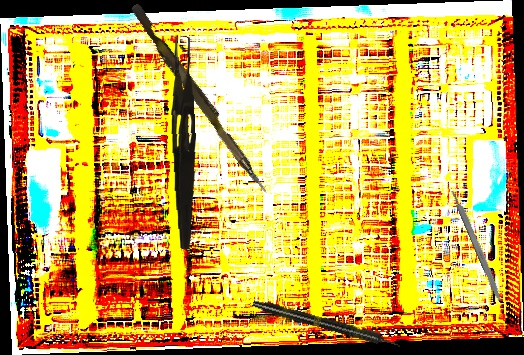Dressing Forceps: (166, 36, 202, 250)
Handpiece: (251, 297, 402, 352)
Pusher: (125, 2, 276, 196)
Scalpel Handle: (450, 188, 505, 304)
